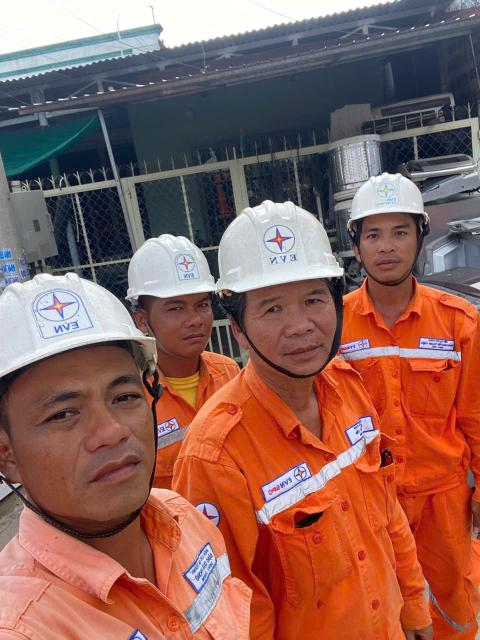helmet: (0, 262, 158, 403), (206, 193, 352, 314), (132, 237, 222, 314), (348, 159, 437, 225)
